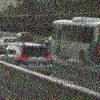buses: (48, 16, 100, 66)
